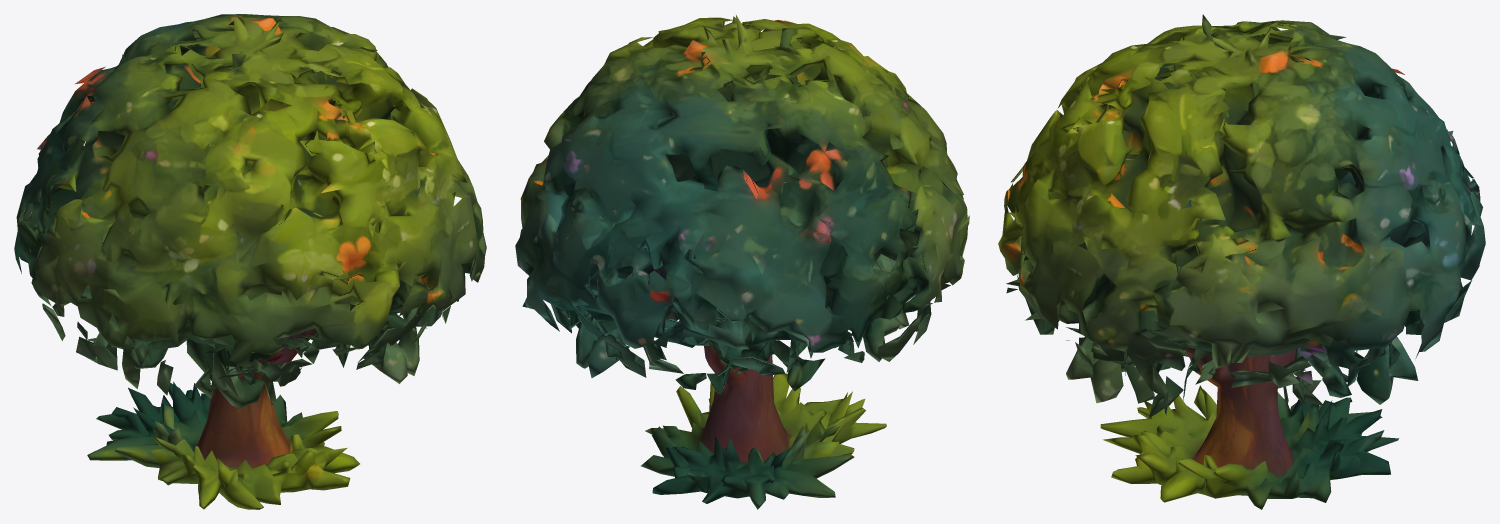
The model's file is bush.glb.
3 renders of one model, left to right at view 1: azimuth 30°, elevation 25°; view 2: azimuth 150°, elevation 25°; view 3: azimuth 270°, elevation 25°, orthographic. The views are drawn at different scales.
Visible parts, largest first — view 1: tripo_node_023226d3-b91f-4113-80e6-ff17f4737563; view 2: tripo_node_023226d3-b91f-4113-80e6-ff17f4737563; view 3: tripo_node_023226d3-b91f-4113-80e6-ff17f4737563.
Part boxes in pixels (x1,y1,x2,y2): tripo_node_023226d3-b91f-4113-80e6-ff17f4737563: (14,14,486,509); tripo_node_023226d3-b91f-4113-80e6-ff17f4737563: (515,15,969,509); tripo_node_023226d3-b91f-4113-80e6-ff17f4737563: (998,14,1485,509).
Size of the model in its own units: 0.9455 by 0.9834 by 0.9672.
1 material, 1 textured.
